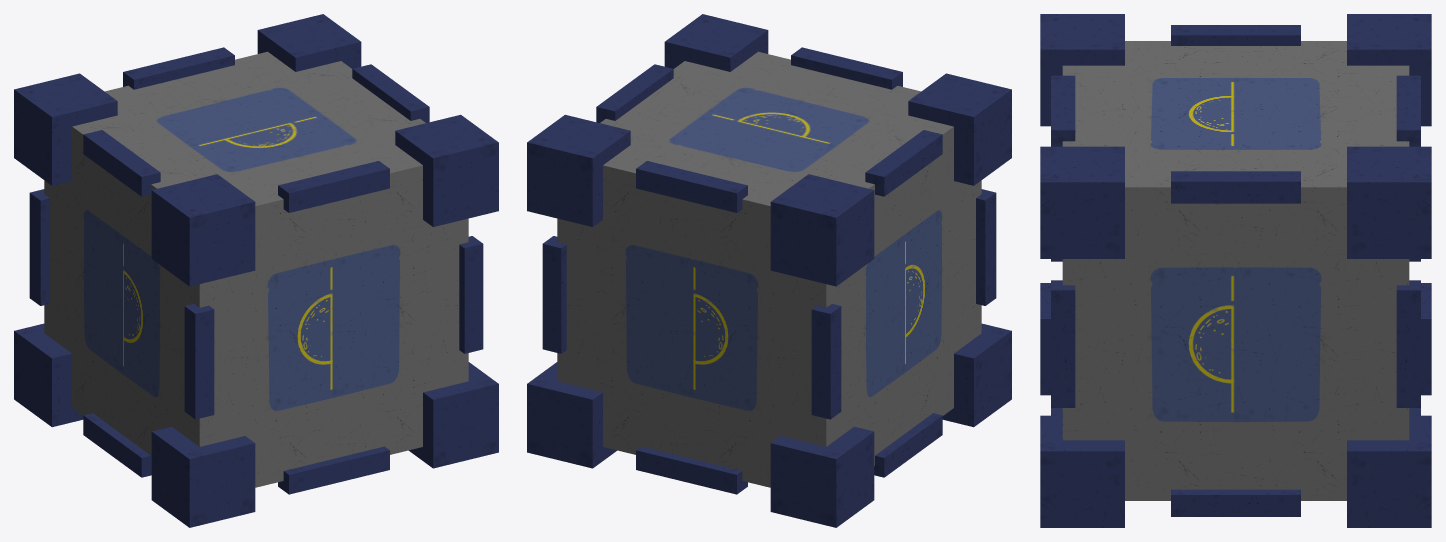
File: boxNight.glb
3 views of the same model, side by side, from view 1: azimuth 30°, elevation 25°; view 2: azimuth 150°, elevation 25°; view 3: azimuth 270°, elevation 25° (orthographic). The views are drawn at different scales.
Visible parts, largest first — view 1: boxNight_low; view 2: boxNight_low; view 3: boxNight_low.
Boxes of the visible parts, <box> form: boxNight_low: <box>14,14,498,527</box>; boxNight_low: <box>527,14,1011,527</box>; boxNight_low: <box>1040,14,1431,527</box>.
Size of the model in its own units: 2.3 by 2.2 by 2.26.
1 material, 1 textured.
